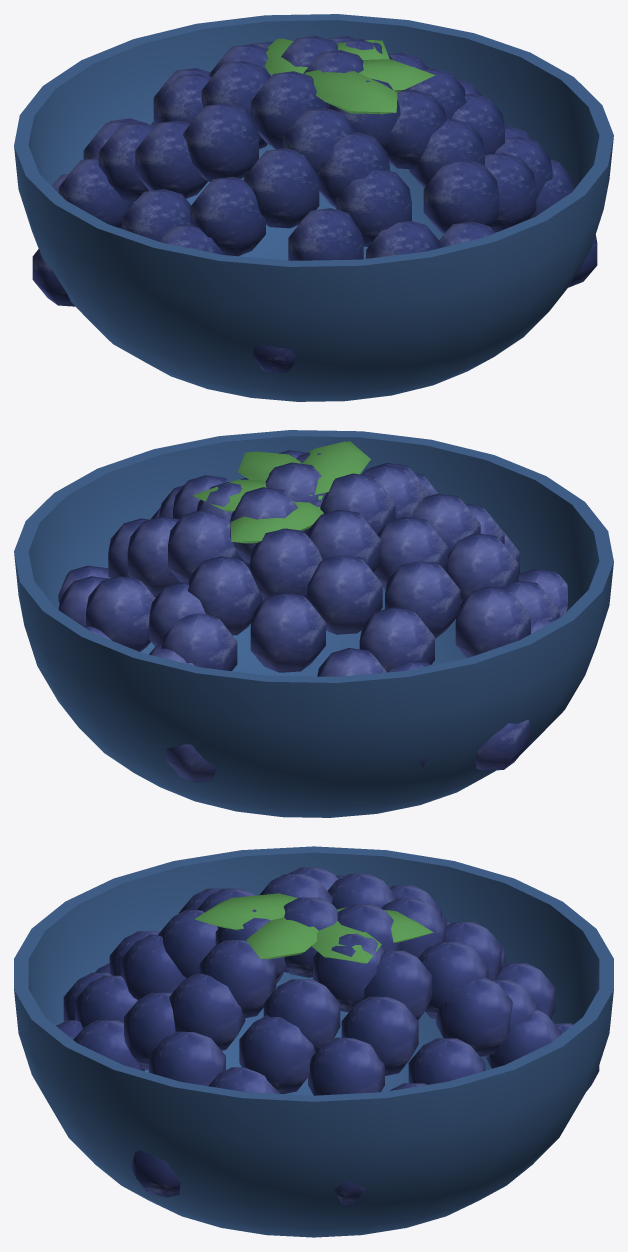
The model's file is fruit_blueberries_bowl.glb.
3 views of the same model, one above another, from view 1: azimuth 30°, elevation 25°; view 2: azimuth 150°, elevation 25°; view 3: azimuth 270°, elevation 25° (orthographic).
Visible parts, largest first — view 1: fruit_blueberries_bowl; view 2: fruit_blueberries_bowl; view 3: fruit_blueberries_bowl.
Part boxes in pixels (x1=…): fruit_blueberries_bowl: x1=14, y1=14, x2=613, y2=401; fruit_blueberries_bowl: x1=14, y1=430, x2=613, y2=817; fruit_blueberries_bowl: x1=14, y1=846, x2=613, y2=1237.
Size of the model in its own units: 0.124 by 0.0642 by 0.1231.
3 materials, 2 textured.
